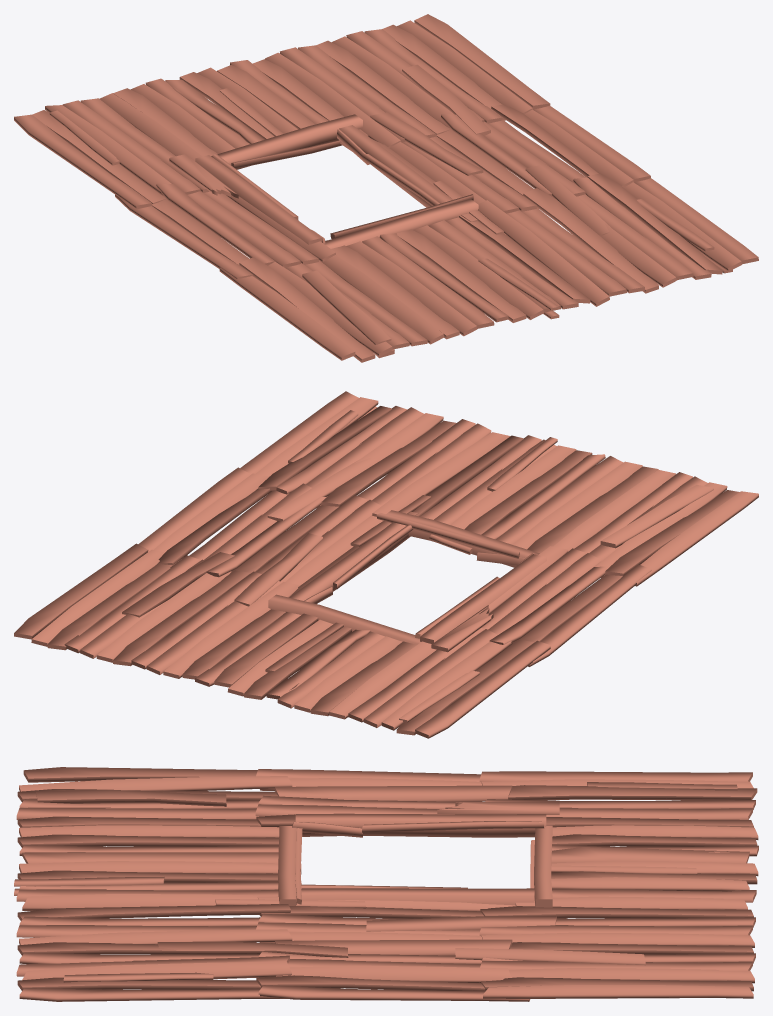
The model's file is floor_04.fbx.
The picture shows the model from 3 angles, top to bottom: view 1: azimuth 30°, elevation 25°; view 2: azimuth 150°, elevation 25°; view 3: azimuth 270°, elevation 25°; orthographic projection. The views are drawn at different scales.
Visible parts, largest first — view 1: Plane.032; view 2: Plane.032; view 3: Plane.032.
Boxes of the visible parts, bbox=[...] form: Plane.032: bbox=[14, 14, 758, 362]; Plane.032: bbox=[14, 391, 758, 738]; Plane.032: bbox=[14, 767, 758, 1001].
Size of the model in its own units: 7.93 by 0.4333 by 10.98.
